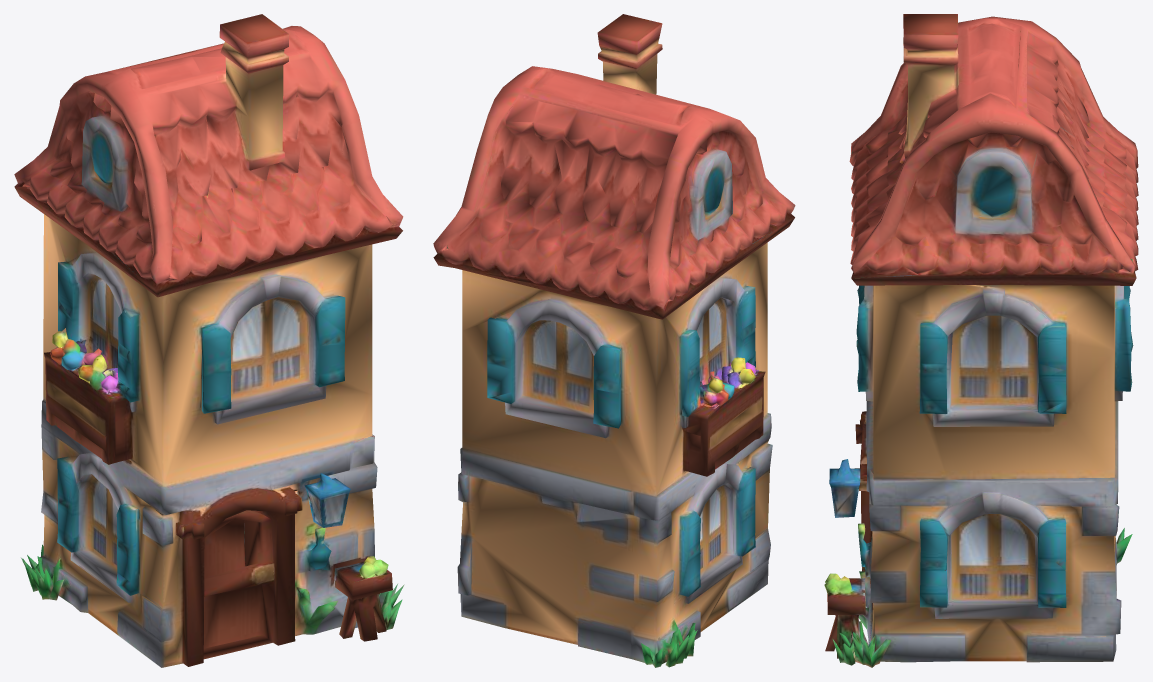
Rendered from house_terra_4.glb.
3 renders of one model, left to right at view 1: azimuth 30°, elevation 25°; view 2: azimuth 150°, elevation 25°; view 3: azimuth 270°, elevation 25°, orthographic. The views are drawn at different scales.
Parts seen in each view (by area): view 1: ЦІЛЬ; view 2: ЦІЛЬ; view 3: ЦІЛЬ.
Boxes of the visible parts, x1,y1,x2,y2 form: ЦІЛЬ: [14, 14, 404, 667]; ЦІЛЬ: [433, 14, 795, 667]; ЦІЛЬ: [824, 14, 1138, 667].
Bounding box in the file's own units: 0.9967 × 2.1 × 1.01.
Materials: 1 (1 with a texture image).
